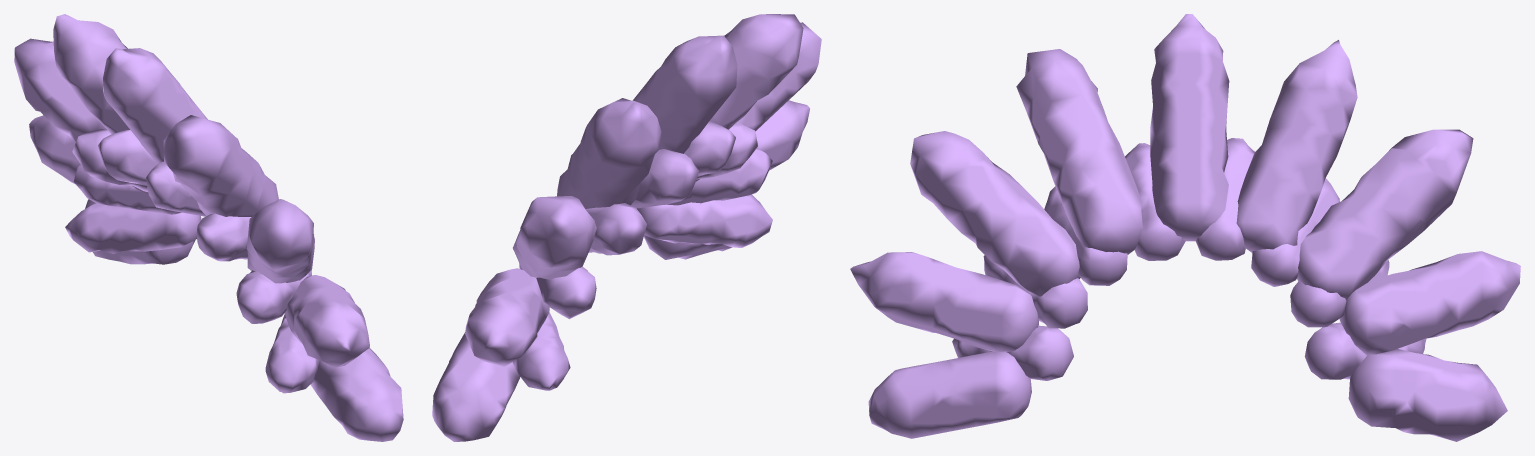
File: triceratops_gems_adult.glb
3 views of the same model, side by side, from view 1: azimuth 30°, elevation 25°; view 2: azimuth 150°, elevation 25°; view 3: azimuth 270°, elevation 25° (orthographic). The views are drawn at different scales.
Parts seen in each view (by area): view 1: gem; view 2: gem; view 3: gem.
Part boxes in pixels (bbox=[...]): gem: bbox=[14, 14, 403, 441]; gem: bbox=[432, 14, 821, 441]; gem: bbox=[850, 14, 1520, 441].
Bounding box in the file's own units: 0.6545 × 1.16 × 1.98.
